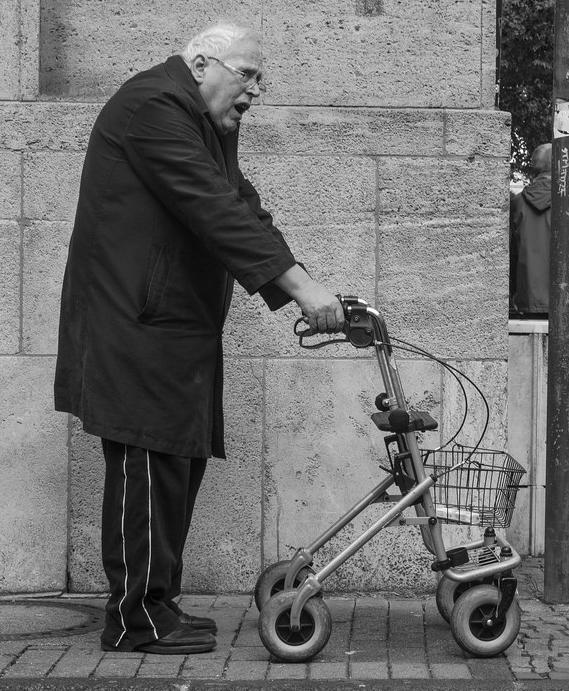walking_frame: (54, 27, 528, 661)
